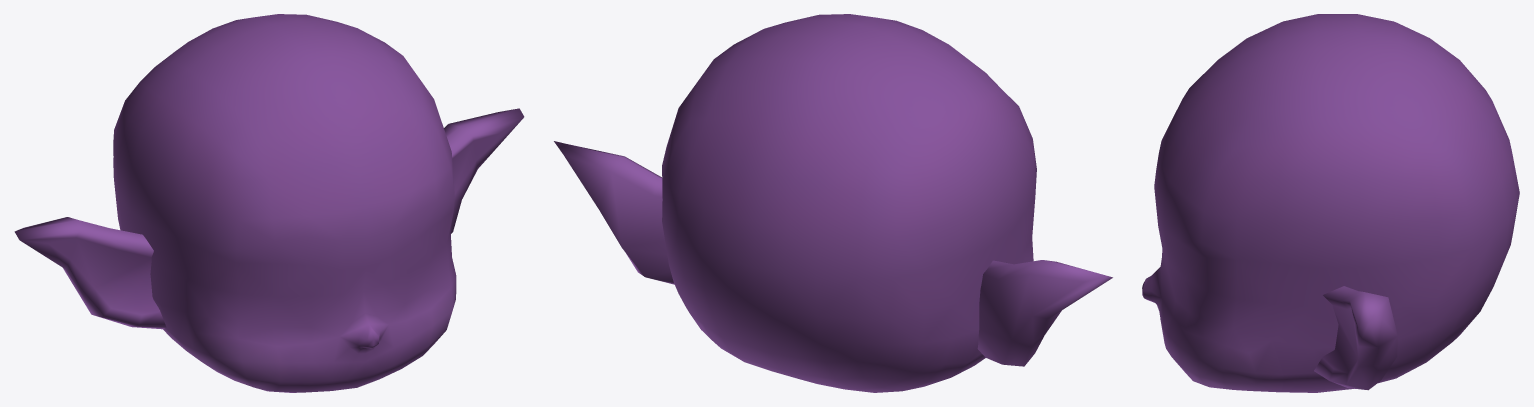
Rendered from Body_Purple_Head_2.fbx.
3 renders of one model, left to right at view 1: azimuth 30°, elevation 25°; view 2: azimuth 150°, elevation 25°; view 3: azimuth 270°, elevation 25°, orthographic. The views are drawn at different scales.
Parts seen in each view (by area): view 1: Body_Purple_Head_2; view 2: Body_Purple_Head_2; view 3: Body_Purple_Head_2.
Part boxes in pixels (x1,y1,x2,y2): Body_Purple_Head_2: (14,14,524,392); Body_Purple_Head_2: (554,14,1112,392); Body_Purple_Head_2: (1142,14,1519,392).
Size of the model in its own units: 88.45 by 52.19 by 53.9.
